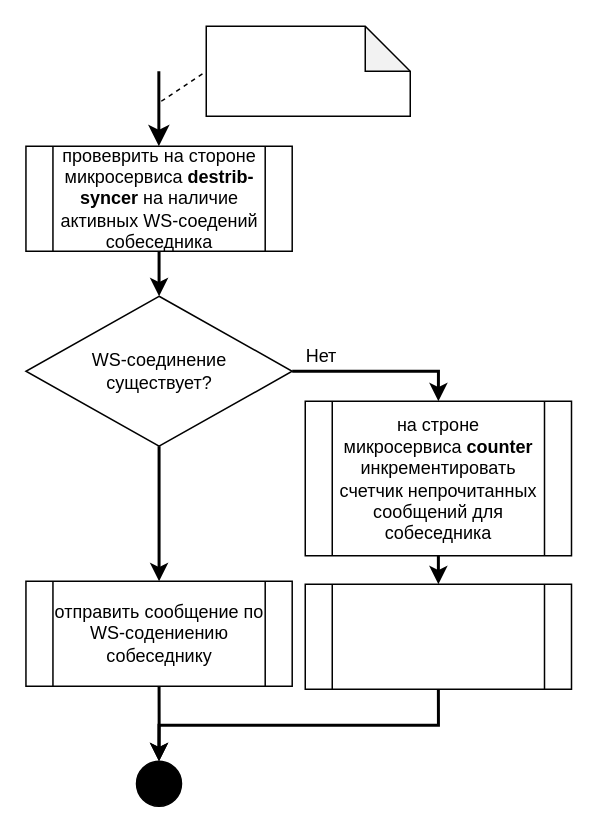
Some shapes in this 599 by 833 pixel diagram are drawn without their labels. Here are the shapes that lost their labels. From the top down, the centre of each, then its label:
[307,70]: сообщение от пользователя по WS
[438,636]: увеличить счетчик в Redis, c key = id собеседника + chat_id
